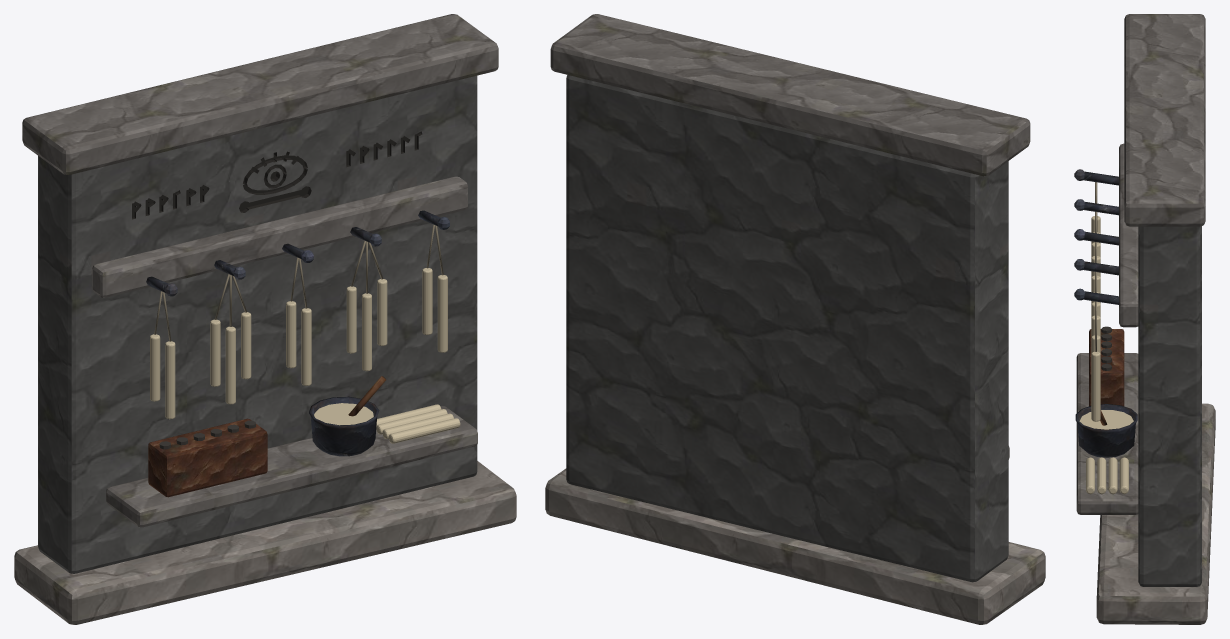
Rendered from vo_candle_rack.glb.
3 views of the same model, side by side, from view 1: azimuth 30°, elevation 25°; view 2: azimuth 150°, elevation 25°; view 3: azimuth 270°, elevation 25° (orthographic). The views are drawn at different scales.
Parts seen in each view (by area): view 1: model; view 2: model; view 3: model.
Part boxes in pixels (box(x1,y1,x2,y2)): model: box(14, 14, 516, 624); model: box(545, 14, 1045, 624); model: box(1074, 14, 1215, 624).
Bounding box in the file's own units: 1.31 × 1.32 × 0.3994.
11 materials, 7 textured.
